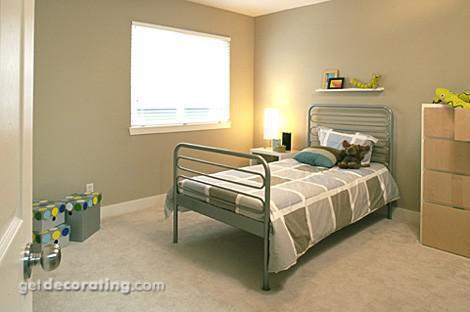Armario: (418, 105, 468, 242)
Cama: (168, 138, 393, 245)
Ventana: (129, 18, 230, 131)
